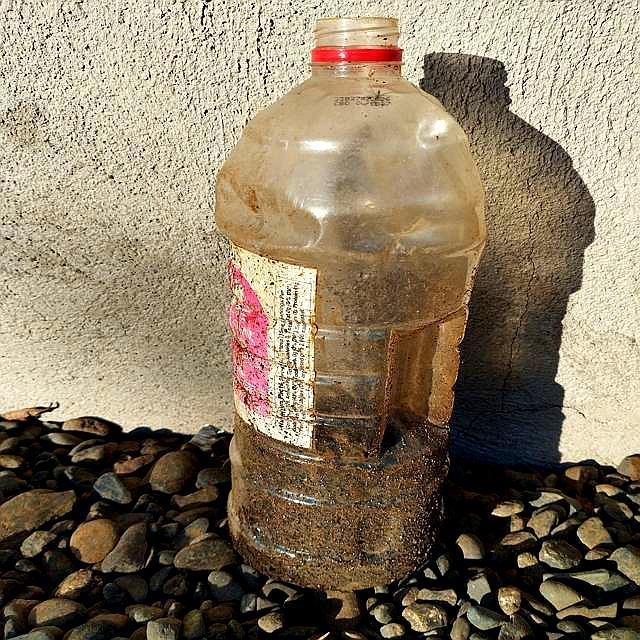Non-biodegradable: (218, 19, 490, 591)
